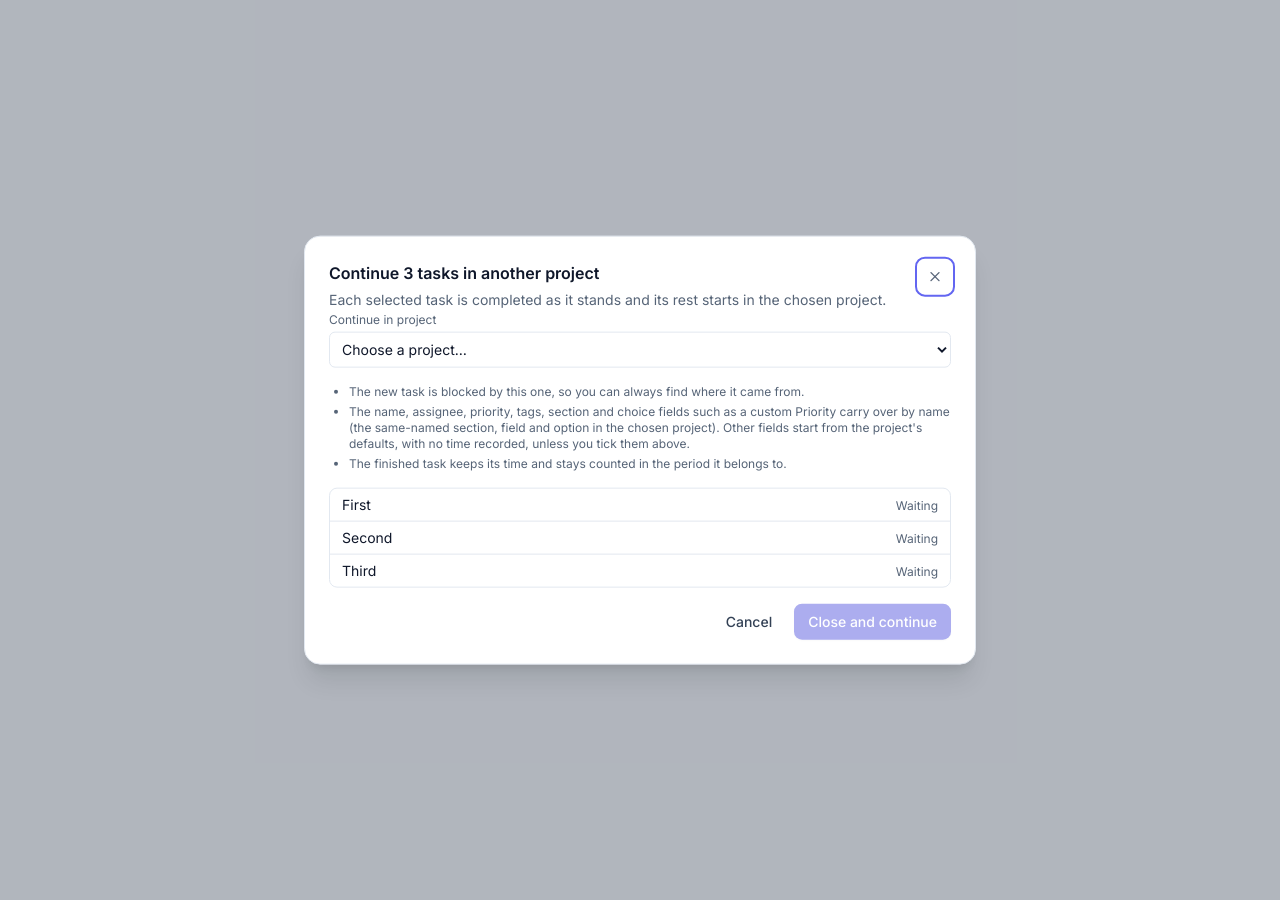
it: continue a selection in another project › sends one command per task with its own key, reports a refusal beside its task and lets the rest be retried
Select "Week 2" in the dropdown labelled "Continue in project" at (640, 349), box [329, 331, 951, 367]
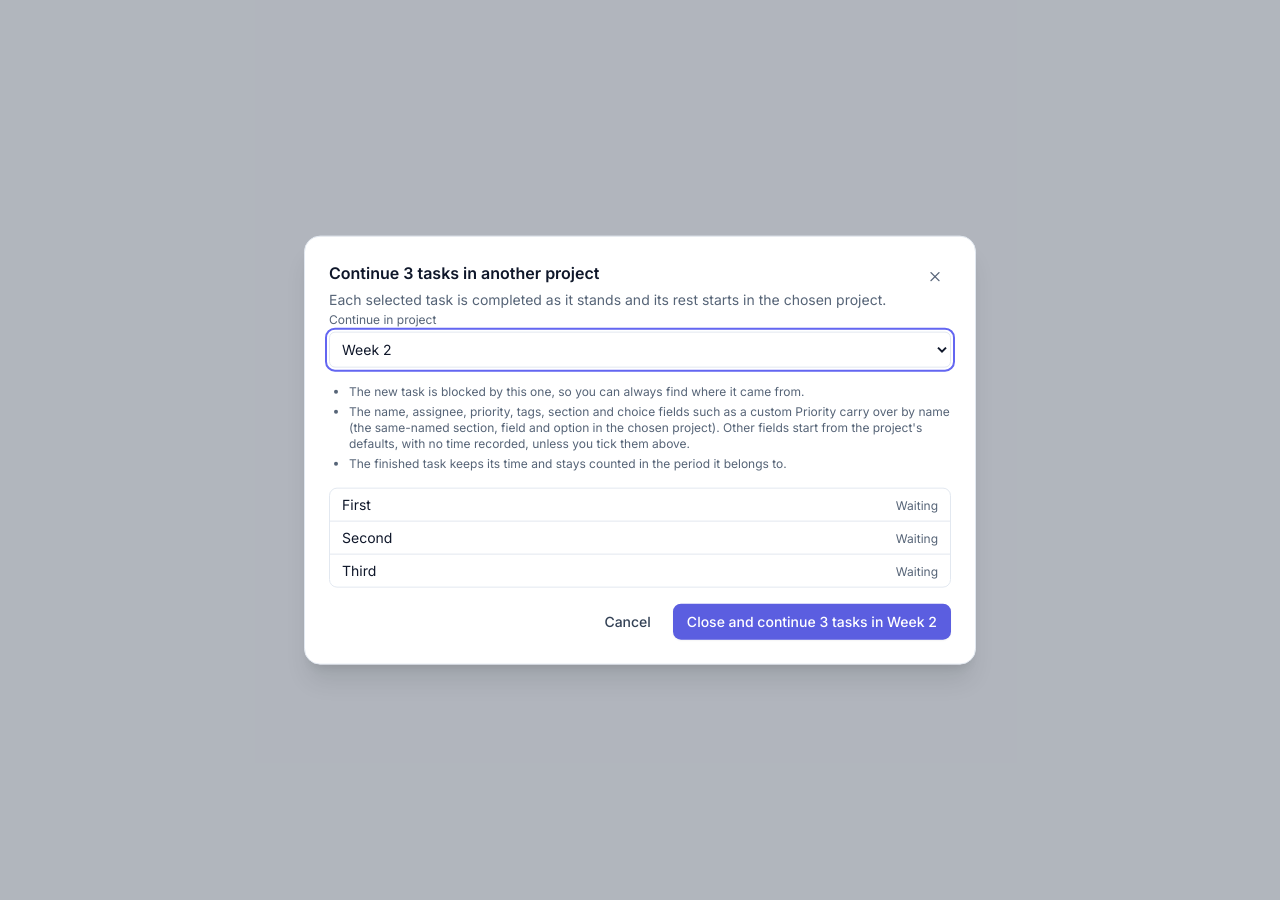
Click the button "Close and continue 3 tasks in Week 2".
click(812, 621)  # box [673, 603, 951, 639]
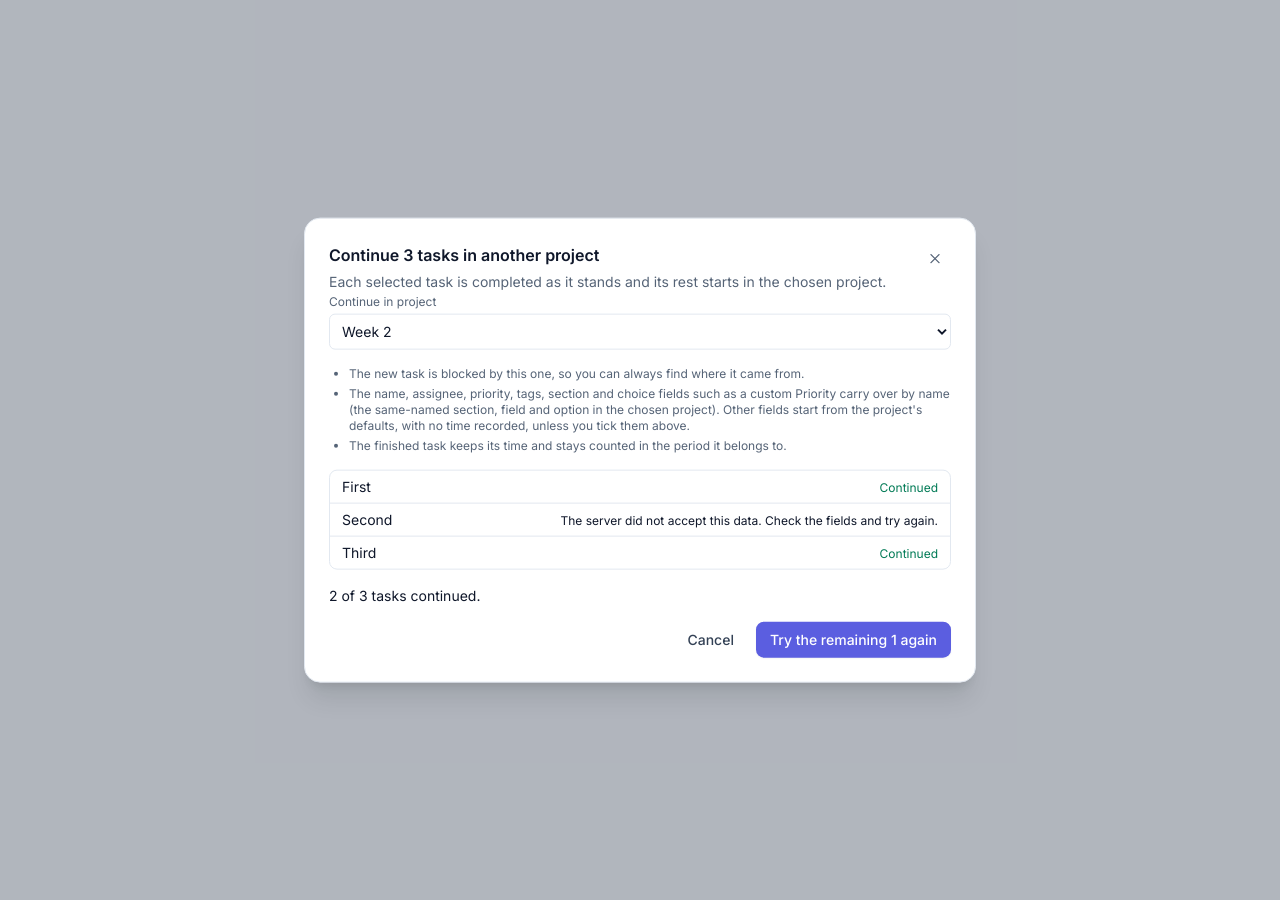
Result: the text "2 of 3 tasks continued." is shown at [329, 586, 480, 603]
Click the button "Try the remaining 1 again".
click(853, 639)  # box [756, 621, 951, 657]
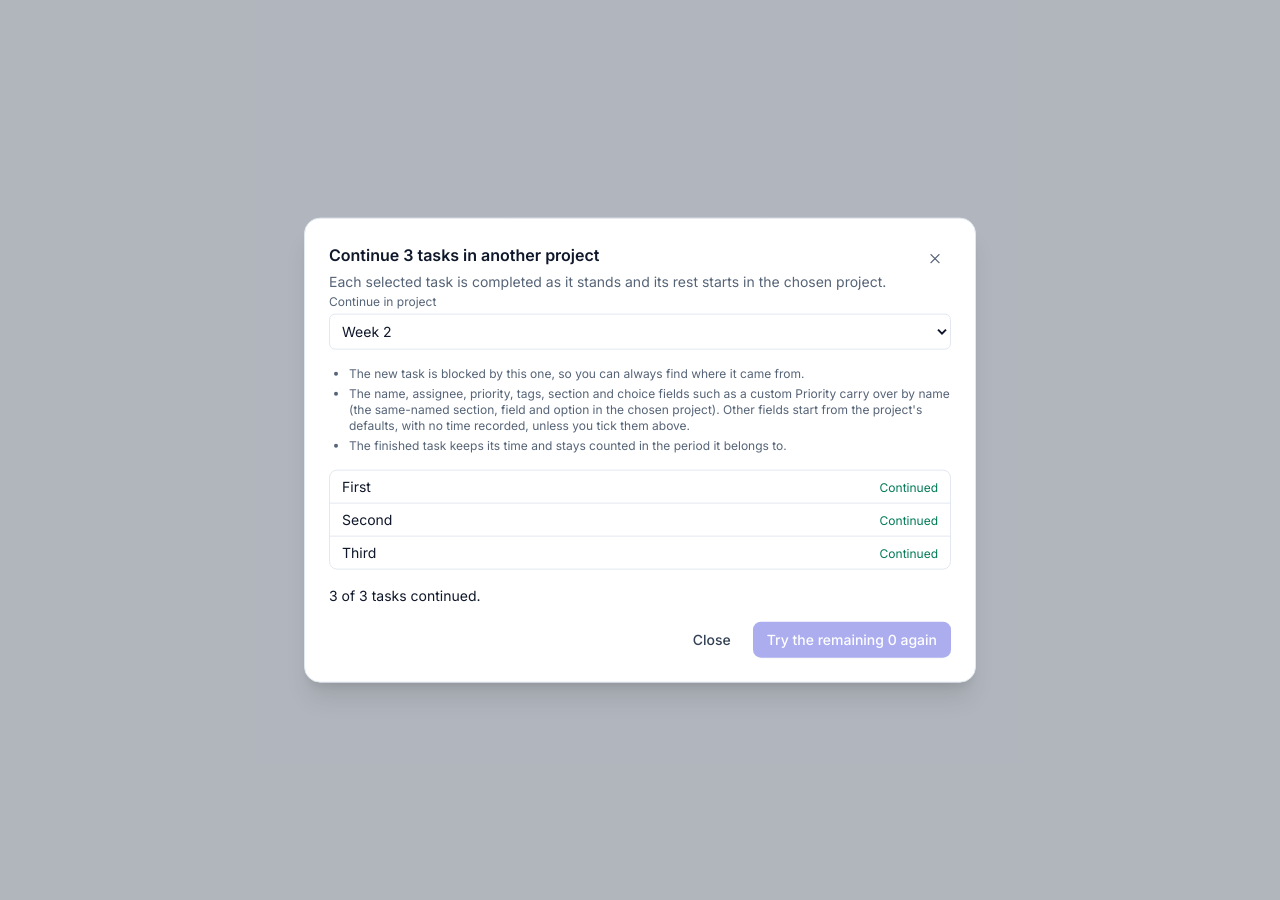
Result: the text "3 of 3 tasks continued." is shown at [329, 586, 480, 603]
